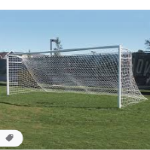goals: (6, 44, 149, 109)
